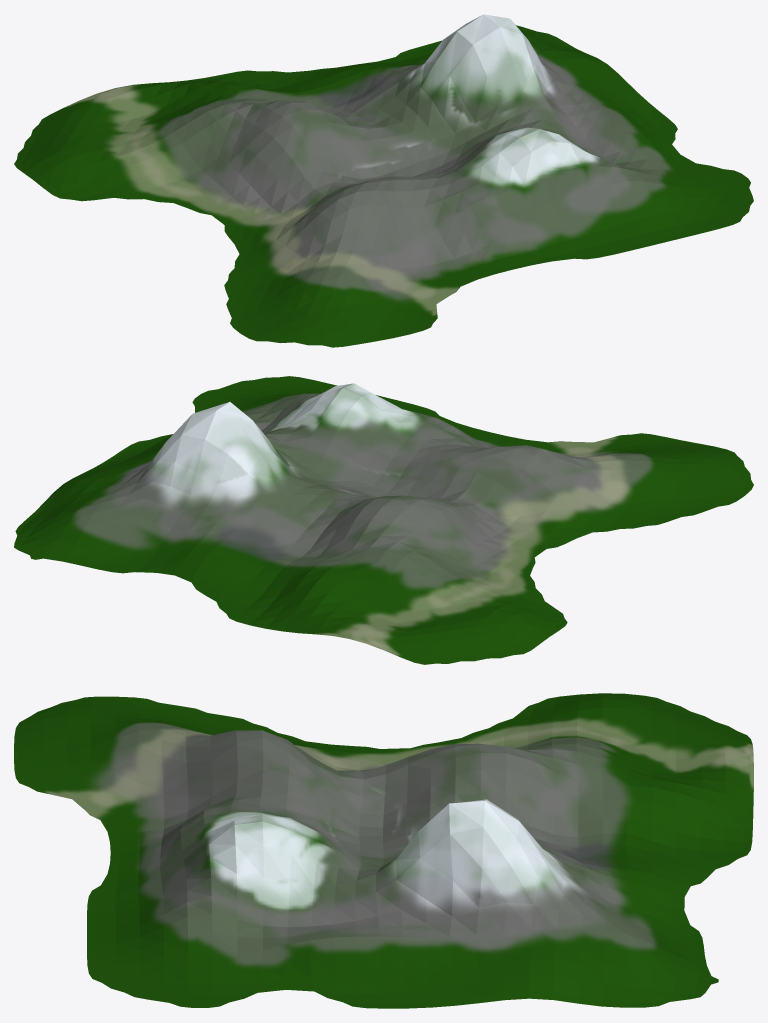
Rendered from Terrain_02.obj.
3 renders of one model, top to bottom at view 1: azimuth 30°, elevation 25°; view 2: azimuth 150°, elevation 25°; view 3: azimuth 270°, elevation 25°, orthographic. The views are drawn at different scales.
Visible parts, largest first — view 1: Plane; view 2: Plane; view 3: Plane.
Boxes of the visible parts, x1=… form: Plane: x1=14, y1=14, x2=753, y2=347; Plane: x1=14, y1=376, x2=753, y2=664; Plane: x1=14, y1=693, x2=753, y2=1008.
Bounding box in the file's own units: 7.59 × 1.43 × 7.6.
1 material, 1 textured.
